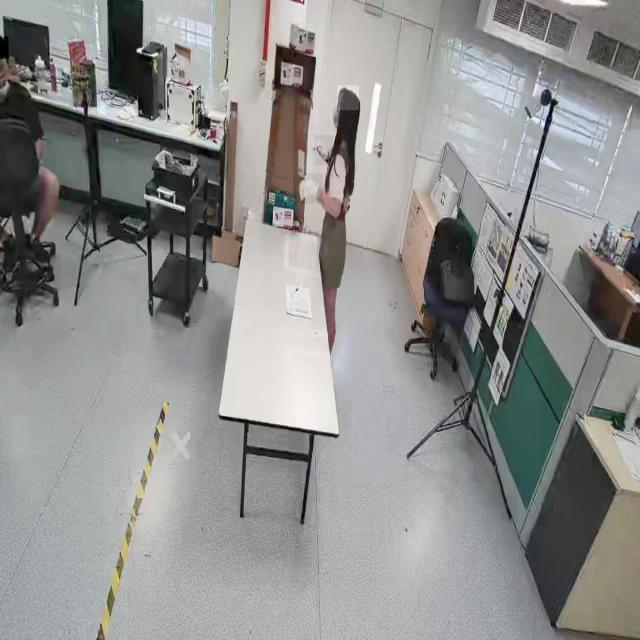gloves: (302, 174, 323, 204), (315, 135, 333, 165)
